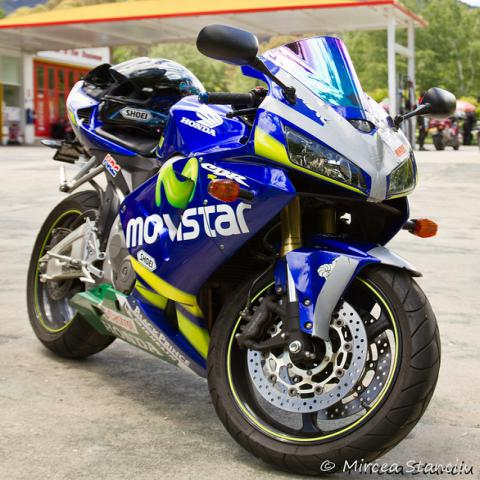motorcycle: (16, 23, 473, 471)
